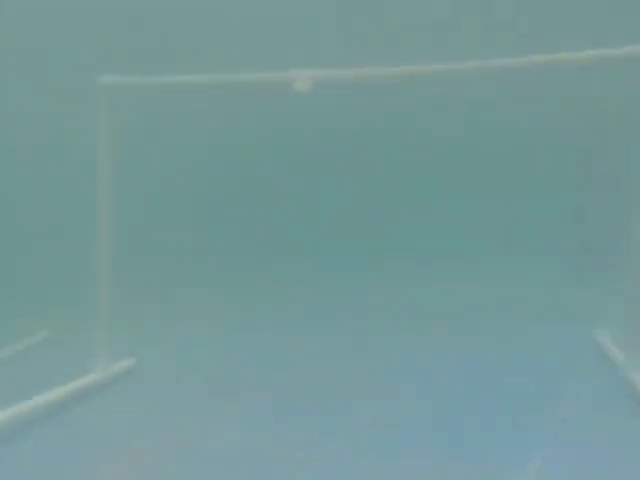gate: (10, 42, 638, 445)
